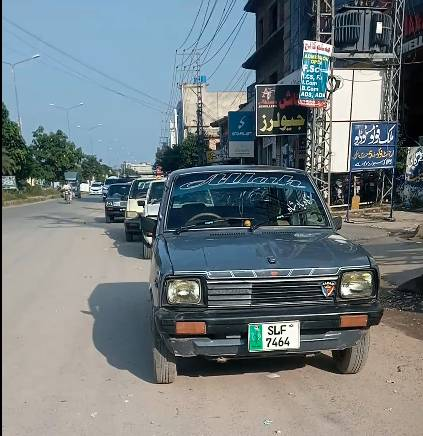number_plate: (246, 323, 301, 352)
